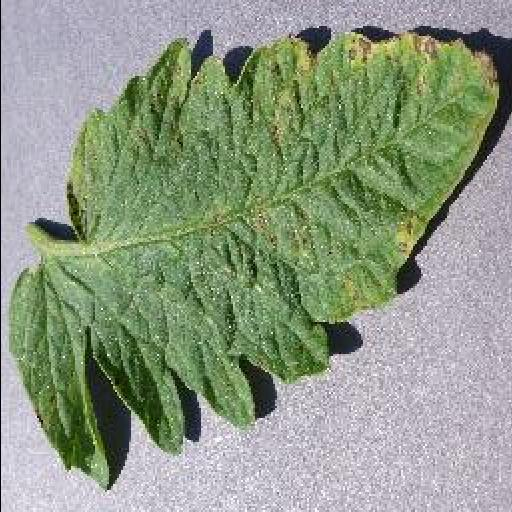disease_tomato: (4, 27, 500, 488)
